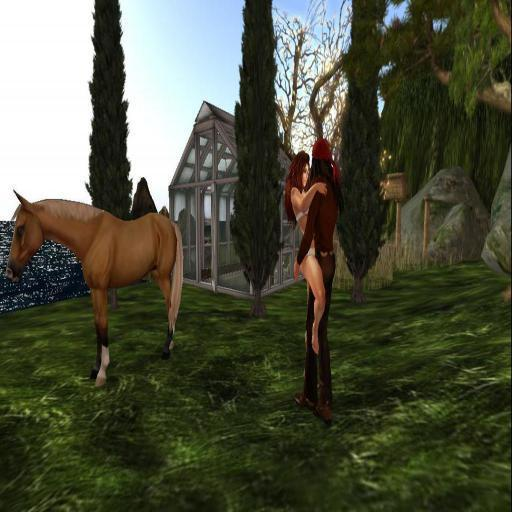horse: (4, 176, 188, 378)
